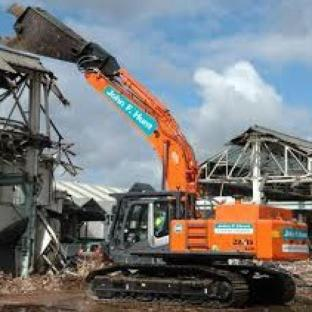ExcavationMachinery: (11, 9, 301, 295)
